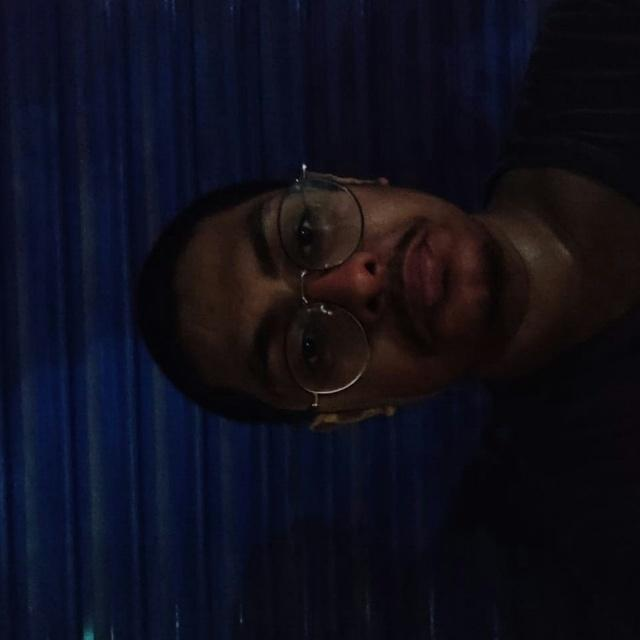Sad: (126, 107, 522, 488)
